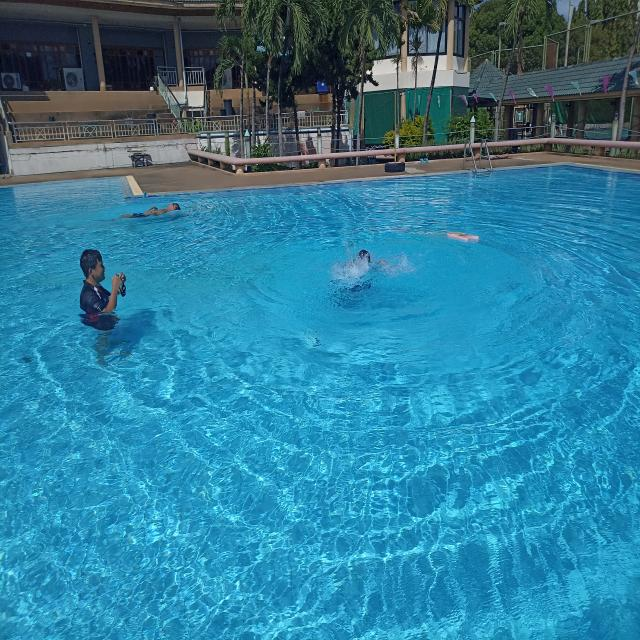Drowning: (325, 245, 403, 301), (415, 212, 486, 247)
Swimming: (52, 250, 142, 330), (118, 199, 194, 231)
